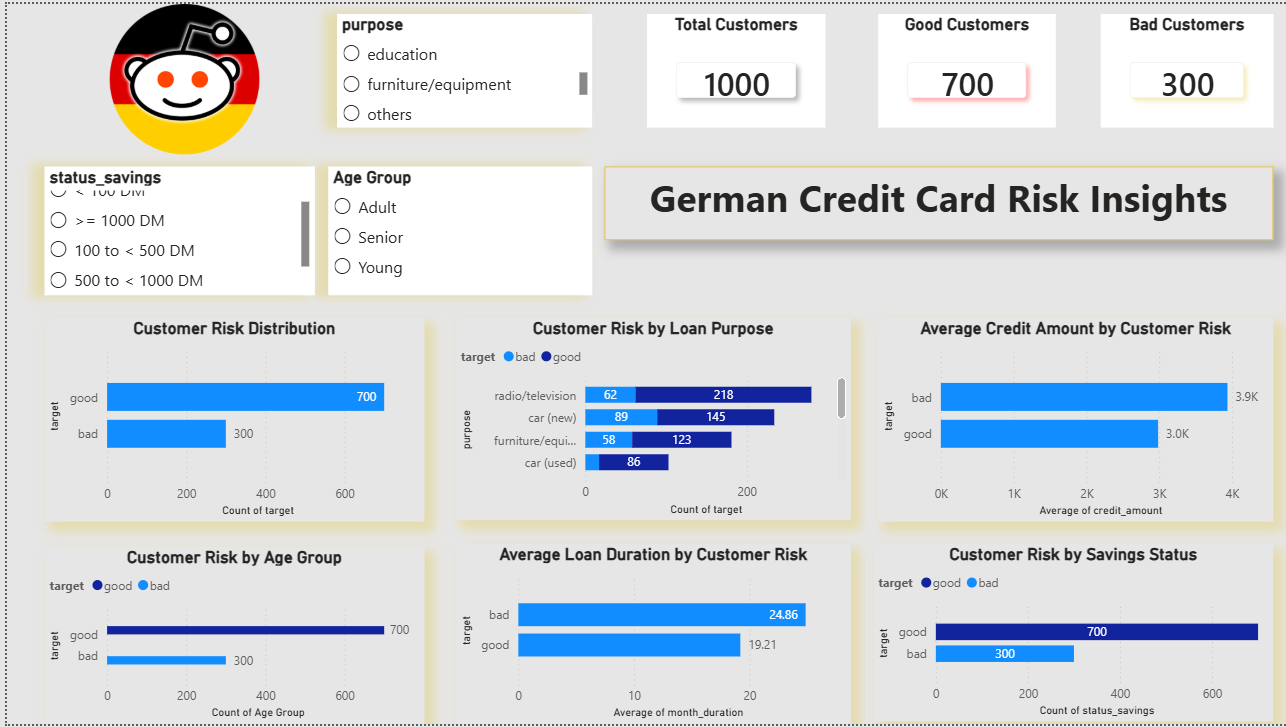

This screenshot's page, from the dashboard's own definition file:
{"tool":"powerbi","page":{"name":"Page 1","canvas":[1280,720],"ordinal":0},"visuals":[{"type":"cardVisual","title":"Total Customers","fields":{"Data":["CountNonNull(german_credit german_credit_data.target)"]},"box":[640,10,178.8,113.8],"z":0},{"type":"cardVisual","title":"Bad Customers","fields":{"Data":["german_credit_data.Bad_Customers"]},"box":[1093.8,10,172.5,113.8],"z":1000},{"type":"cardVisual","title":"Good Customers","fields":{"Data":["german_credit_data.Good_Customers"]},"box":[871.2,10,177.5,113.8],"z":2000},{"type":"clusteredBarChart","title":"Customer Risk Distribution","fields":{"Category":["german_credit_data.target"],"Y":["CountNonNull(german_credit_data.target)"]},"box":[37.5,313.8,380,203.8],"z":3000},{"type":"clusteredBarChart","title":"Average Credit Amount by Customer Risk","fields":{"Category":["german_credit_data.target"],"Y":["Avg(german_credit_data.credit_amount)"]},"box":[871.2,313.8,395,203.8],"z":4000},{"type":"barChart","title":"Customer Risk by Loan Purpose","fields":{"Category":["german_credit_data.purpose"],"Y":["CountNonNull(german_credit_data.target)"],"Series":["german_credit_data.target"]},"box":[448.8,313.8,395,202.5],"z":5000},{"type":"clusteredBarChart","title":"Customer Risk by Age Group","fields":{"Category":["german_credit_data.target"],"Series":["german_credit_data.target"],"Y":["CountNonNull(german_credit_data.Age Group)"]},"box":[37.5,542.5,380,177.5],"z":6000},{"type":"barChart","title":"Customer Risk by Savings Status","fields":{"Y":["CountNonNull(german_credit_data.status_savings)"],"Category":["german_credit_data.target"],"Series":["german_credit_data.target"]},"box":[866.2,540,400,177.5],"z":6001},{"type":"clusteredBarChart","title":"Average Loan Duration by Customer Risk","fields":{"Category":["german_credit_data.target"],"Y":["Avg(german_credit_data.month_duration)"]},"box":[448.8,540,395,180],"z":6002},{"type":"listSlicer","fields":{"Values":["german_credit_data.purpose"]},"box":[330,10,255,113.8],"z":6003},{"type":"listSlicer","fields":{"Values":["german_credit_data.Age Group"]},"box":[321.2,162.5,263.8,128.8],"z":6004},{"type":"listSlicer","fields":{"Values":["german_credit_data.status_savings"]},"box":[37.5,162.5,270,128.8],"z":6005},{"type":"image","box":[38.8,0,277.5,150],"z":6006},{"type":"textbox","box":[597.5,162.5,668.8,73.8],"z":6007}]}

Visuals, with their boxes in screenshot pixels (x1, y1, x2, y2), scaled from the page's 1280x720 canvas onto the 1286x727 screenshot:
"Total Customers" cardVisual: bbox(643, 10, 823, 125)
"Bad Customers" cardVisual: bbox(1099, 10, 1272, 125)
"Good Customers" cardVisual: bbox(875, 10, 1054, 125)
"Customer Risk Distribution" clusteredBarChart: bbox(38, 317, 419, 523)
"Average Credit Amount by Customer Risk" clusteredBarChart: bbox(875, 317, 1272, 523)
"Customer Risk by Loan Purpose" barChart: bbox(451, 317, 848, 521)
"Customer Risk by Age Group" clusteredBarChart: bbox(38, 548, 419, 726)
"Customer Risk by Savings Status" barChart: bbox(870, 545, 1272, 724)
"Average Loan Duration by Customer Risk" clusteredBarChart: bbox(451, 545, 848, 726)
listSlicer - german_credit_data.purpose: bbox(332, 10, 588, 125)
listSlicer - german_credit_data.Age Group: bbox(323, 164, 588, 294)
listSlicer - german_credit_data.status_savings: bbox(38, 164, 309, 294)
image: bbox(39, 0, 318, 151)
textbox: bbox(600, 164, 1272, 239)
